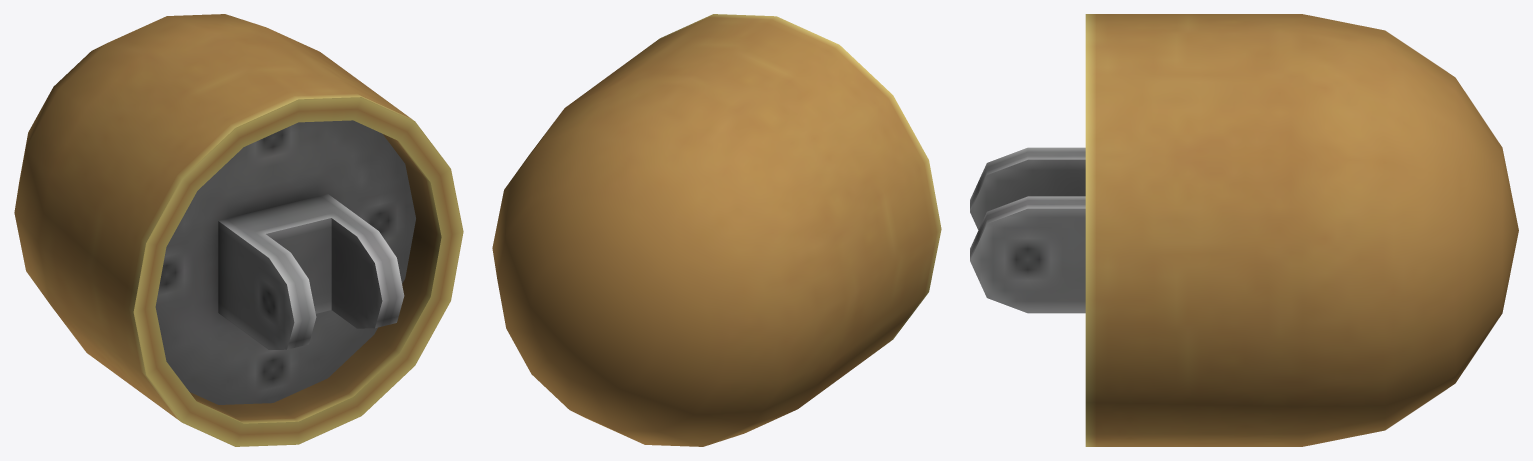
File: low gain.obj
The picture shows the model from 3 angles, left to right: view 1: azimuth 30°, elevation 25°; view 2: azimuth 150°, elevation 25°; view 3: azimuth 270°, elevation 25°; orthographic projection. The views are drawn at different scales.
Visible parts, largest first — view 1: low; view 2: low; view 3: low.
Part boxes in pixels (box(x1,y1,x2,y2)): low: box(14, 14, 463, 446); low: box(492, 14, 941, 446); low: box(970, 14, 1518, 446).
Size of the model in its own units: 0.1875 by 0.1875 by 0.2375.
1 material, 1 textured.
